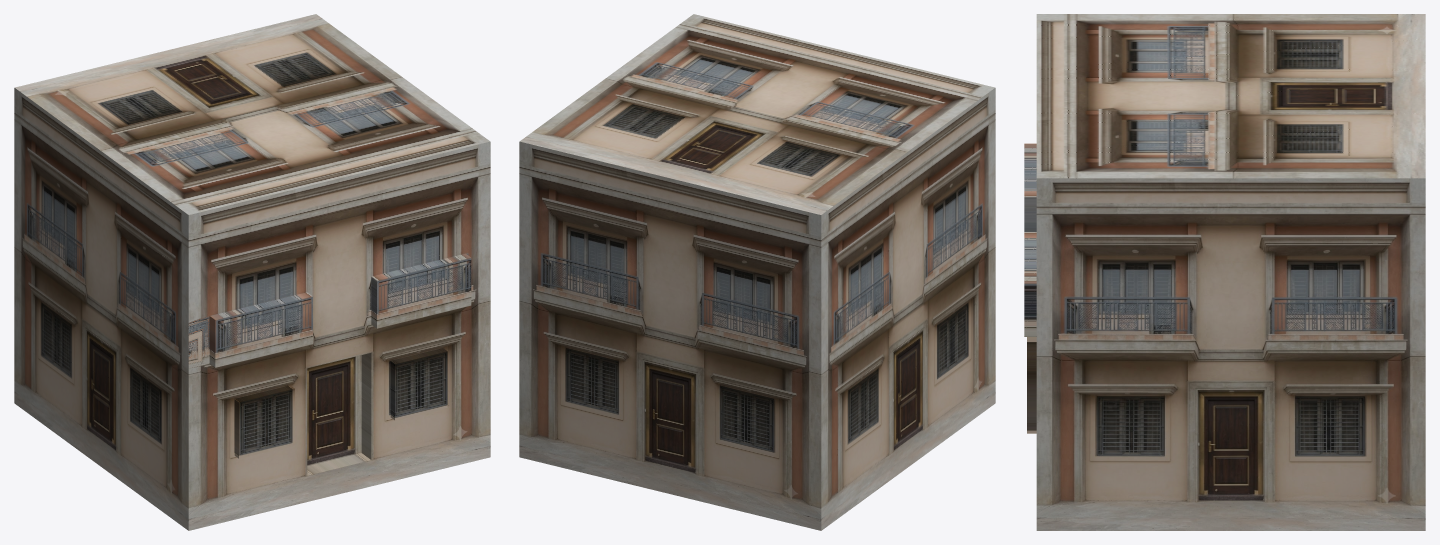
Rendered from house_indian.glb.
The picture shows the model from 3 angles, left to right: view 1: azimuth 30°, elevation 25°; view 2: azimuth 150°, elevation 25°; view 3: azimuth 270°, elevation 25°; orthographic projection. The views are drawn at different scales.
Parts seen in each view (by area): view 1: Cube_0; view 2: Cube_0; view 3: Cube_0.
Part boxes in pixels (<box>): Cube_0: <box>14,14,490,530</box>; Cube_0: <box>519,14,995,530</box>; Cube_0: <box>1024,14,1425,530</box>.
Bounding box in the file's own units: 5 × 5 × 5.16.
Materials: 2 (2 with a texture image).
